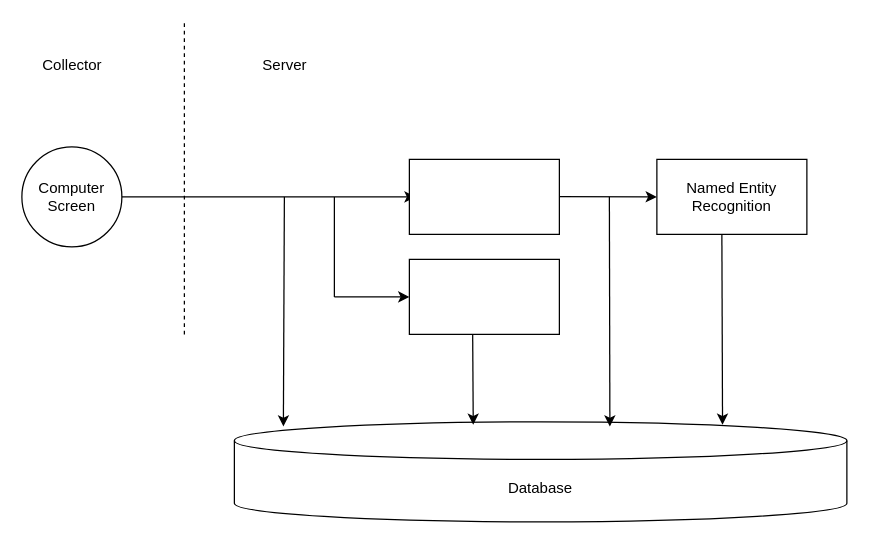
Image size: 869x544. Some labels were removed from this diagram. Here are the shapes that lost their labels. From the top down, the centre of each, then its label:
At [483,196]: "OCR".
At [483,296]: "Image Embedding".
